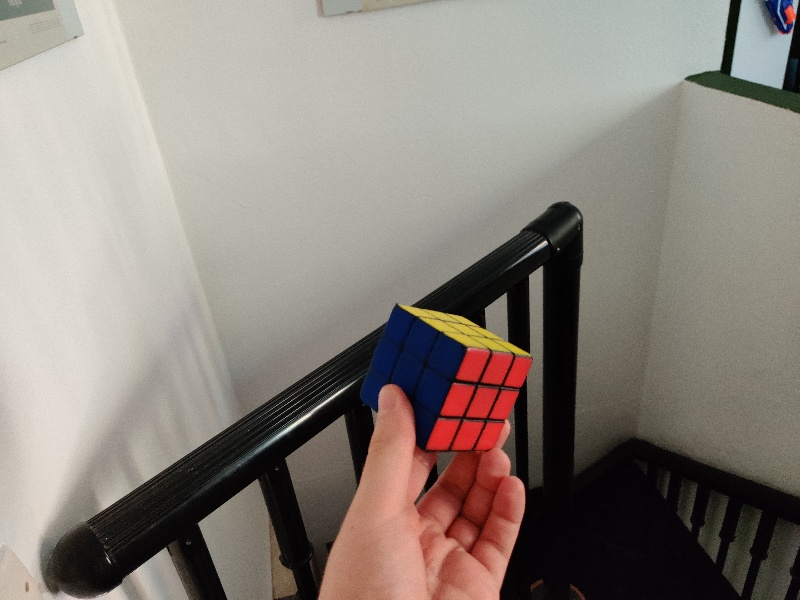rubik: (361, 304, 534, 451)
